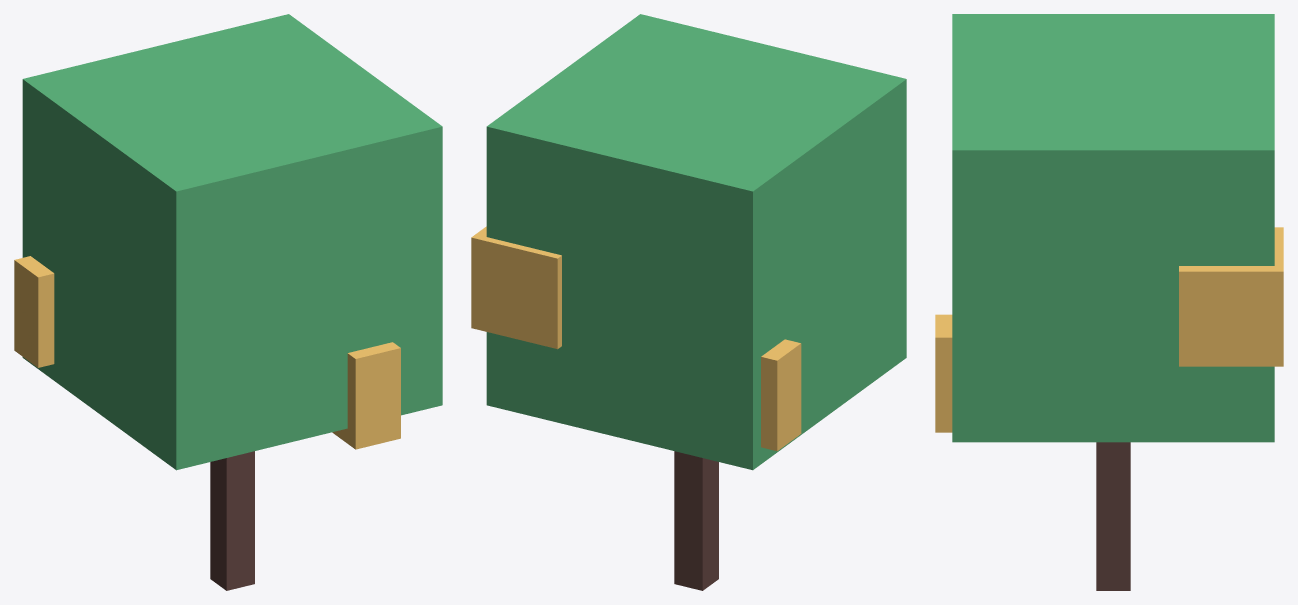
The model's file is tree01.fbx.
The picture shows the model from 3 angles, left to right: view 1: azimuth 30°, elevation 25°; view 2: azimuth 150°, elevation 25°; view 3: azimuth 270°, elevation 25°; orthographic projection. The views are drawn at different scales.
Parts seen in each view (by area): view 1: Cube.003; view 2: Cube.003; view 3: Cube.003.
Boxes of the visible parts, x1,y1,x2,y2 form: Cube.003: [14, 14, 442, 590]; Cube.003: [471, 14, 906, 590]; Cube.003: [935, 14, 1283, 590].
Bounding box in the file's own units: 27.59 × 42.97 × 27.05.
